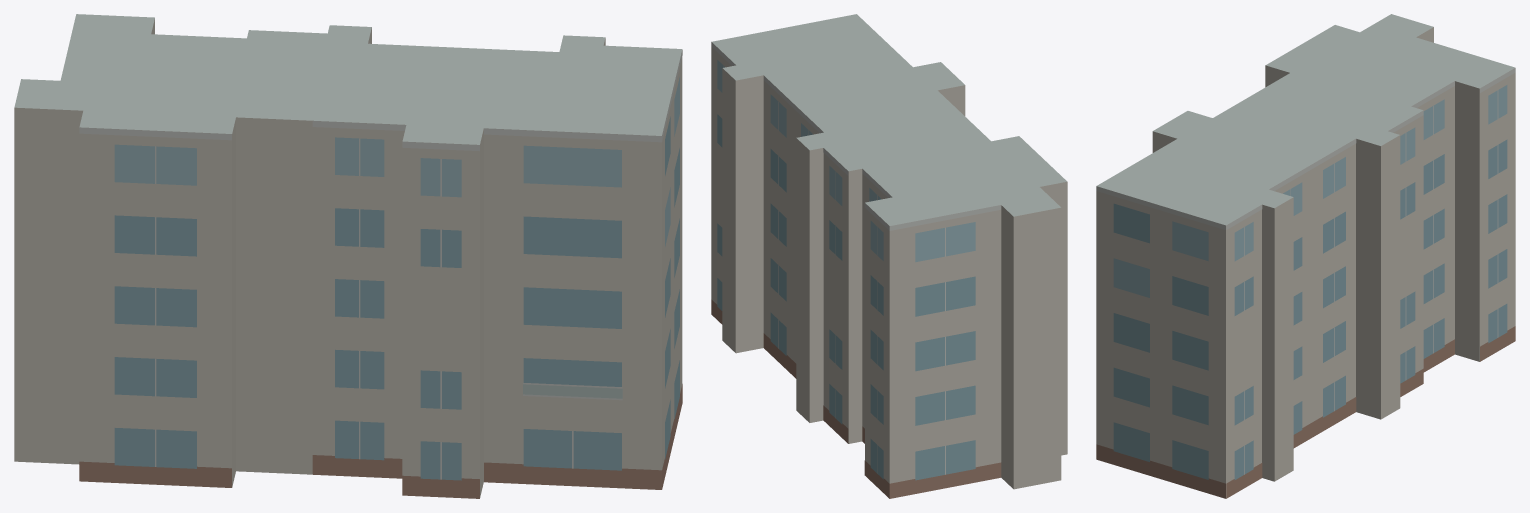
File: survey-upis-32916360.glb
The picture shows the model from 3 angles, left to right: view 1: azimuth 30°, elevation 25°; view 2: azimuth 150°, elevation 25°; view 3: azimuth 270°, elevation 25°; orthographic projection. The views are drawn at different scales.
Parts seen in each view (by area): view 1: survey-upis-32916360.tmp; view 2: survey-upis-32916360.tmp; view 3: survey-upis-32916360.tmp.
Boxes of the visible parts, x1,y1,x2,y2 form: survey-upis-32916360.tmp: [14, 14, 682, 498]; survey-upis-32916360.tmp: [711, 14, 1067, 498]; survey-upis-32916360.tmp: [1096, 14, 1515, 498].
Bounding box in the file's own units: 22.9 × 13.8 × 19.19.
